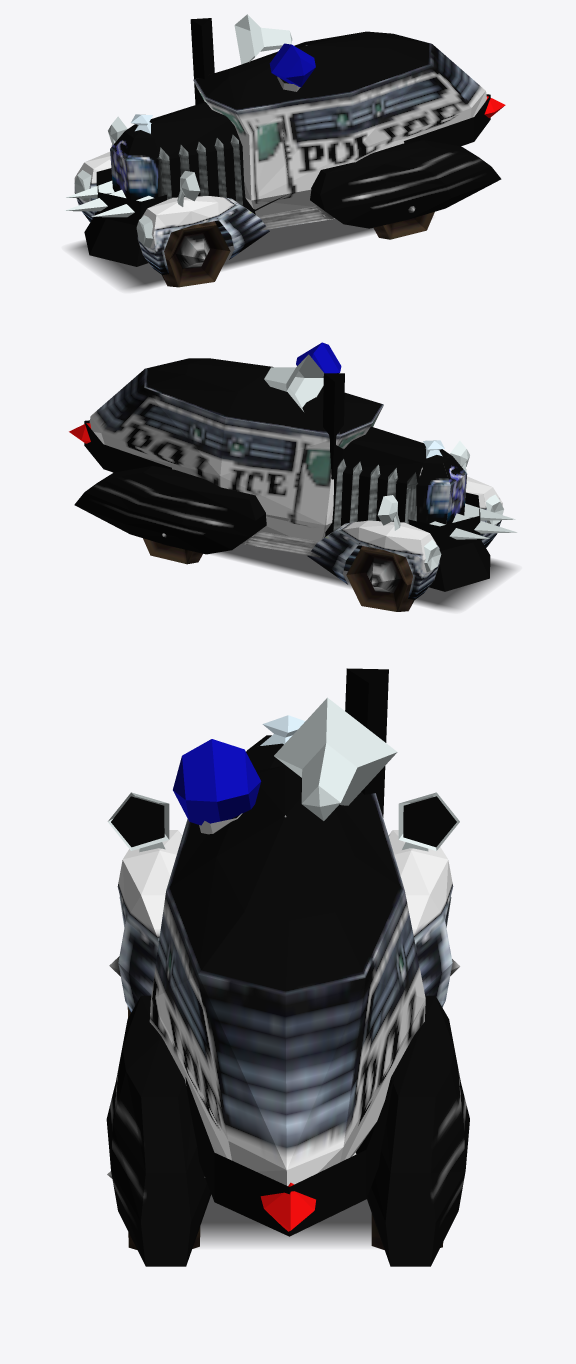
The model's file is Police_new_2756.glb.
3 views of the same model, one above another, from view 1: azimuth 30°, elevation 25°; view 2: azimuth 150°, elevation 25°; view 3: azimuth 270°, elevation 25° (orthographic). The views are drawn at different scales.
Visible parts, largest first — view 1: polySurfaceShape75, pSphereShape11, polySurfaceShape61, pPlaneShape11, pSphereShape13, vrlShape, polySurfaceShape44, polySurfaceShape62, pCylinderShape2, pSphereShape19, pCylinderShape15, pCylinderShape4 (+14 smaller); view 2: polySurfaceShape75, pSphereShape28, polySurfaceShape61, pSphereShape14, pPlaneShape11, vrrShape, polySurfaceShape50, polySurfaceShape62, pCylinderShape2, pSphereShape19, pCylinderShape15, pCylinderShape4 (+13 smaller); view 3: polySurfaceShape75, pSphereShape28, pSphereShape11, pCylinderShape4, pSphereShape19, pSphereShape13, pSphereShape14, pSphereShape18, pPlaneShape11, pCylinderShape15, pCylinderShape17, pCylinderShape19 (+1 smaller).
Part boxes in pixels (<box>): polySurfaceShape75: <box>193,31,486,216</box>; pSphereShape11: <box>310,140,501,228</box>; polySurfaceShape61: <box>149,102,255,227</box>; pPlaneShape11: <box>69,218,417,290</box>; pSphereShape13: <box>137,196,269,274</box>; vrlShape: <box>162,221,230,287</box>; polySurfaceShape44: <box>242,114,289,201</box>; polySurfaceShape62: <box>110,124,158,200</box>; pCylinderShape2: <box>84,211,148,266</box>; pSphereShape19: <box>234,14,292,64</box>; pCylinderShape15: <box>190,18,214,104</box>; pCylinderShape4: <box>404,94,490,146</box>; polySurfaceShape75: <box>89,358,383,541</box>; pSphereShape28: <box>74,465,266,554</box>; polySurfaceShape61: <box>324,426,426,548</box>; pSphereShape14: <box>307,520,439,599</box>; pPlaneShape11: <box>212,544,514,610</box>; vrrShape: <box>346,546,414,611</box>; polySurfaceShape50: <box>288,441,331,529</box>; polySurfaceShape62: <box>416,449,467,524</box>; pCylinderShape2: <box>429,539,490,591</box>; pSphereShape19: <box>264,354,323,411</box>; pCylinderShape15: <box>323,373,344,479</box>; pCylinderShape4: <box>84,420,171,472</box>; polySurfaceShape75: <box>149,765,425,1185</box>; pSphereShape28: <box>355,995,469,1266</box>; pSphereShape11: <box>106,995,211,1266</box>; pCylinderShape4: <box>185,1076,394,1236</box>; pSphereShape19: <box>274,697,397,820</box>; pSphereShape13: <box>117,830,182,1012</box>; pSphereShape14: <box>388,830,453,1007</box>; pSphereShape18: <box>173,739,261,825</box>; pPlaneShape11: <box>194,1194,381,1244</box>; pCylinderShape15: <box>345,668,388,817</box>; pCylinderShape17: <box>111,796,164,847</box>; pCylinderShape19: <box>403,796,456,847</box>.
Bounding box in the file's own units: 0.8061 × 0.3736 × 0.3584.
Materials: 51 (25 with a texture image).
